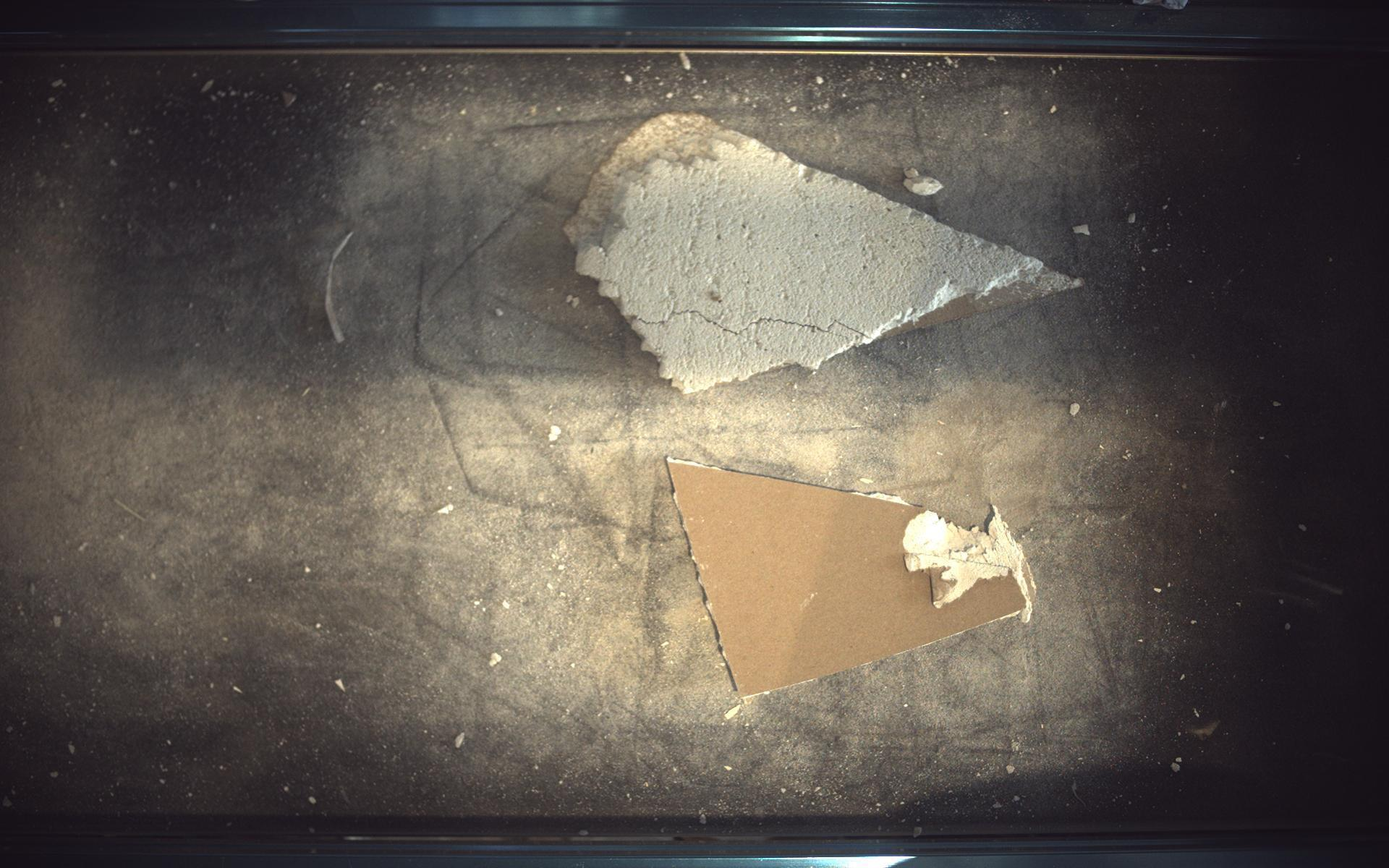gypsum_board: (566, 112, 1081, 393), (669, 458, 1038, 698)
